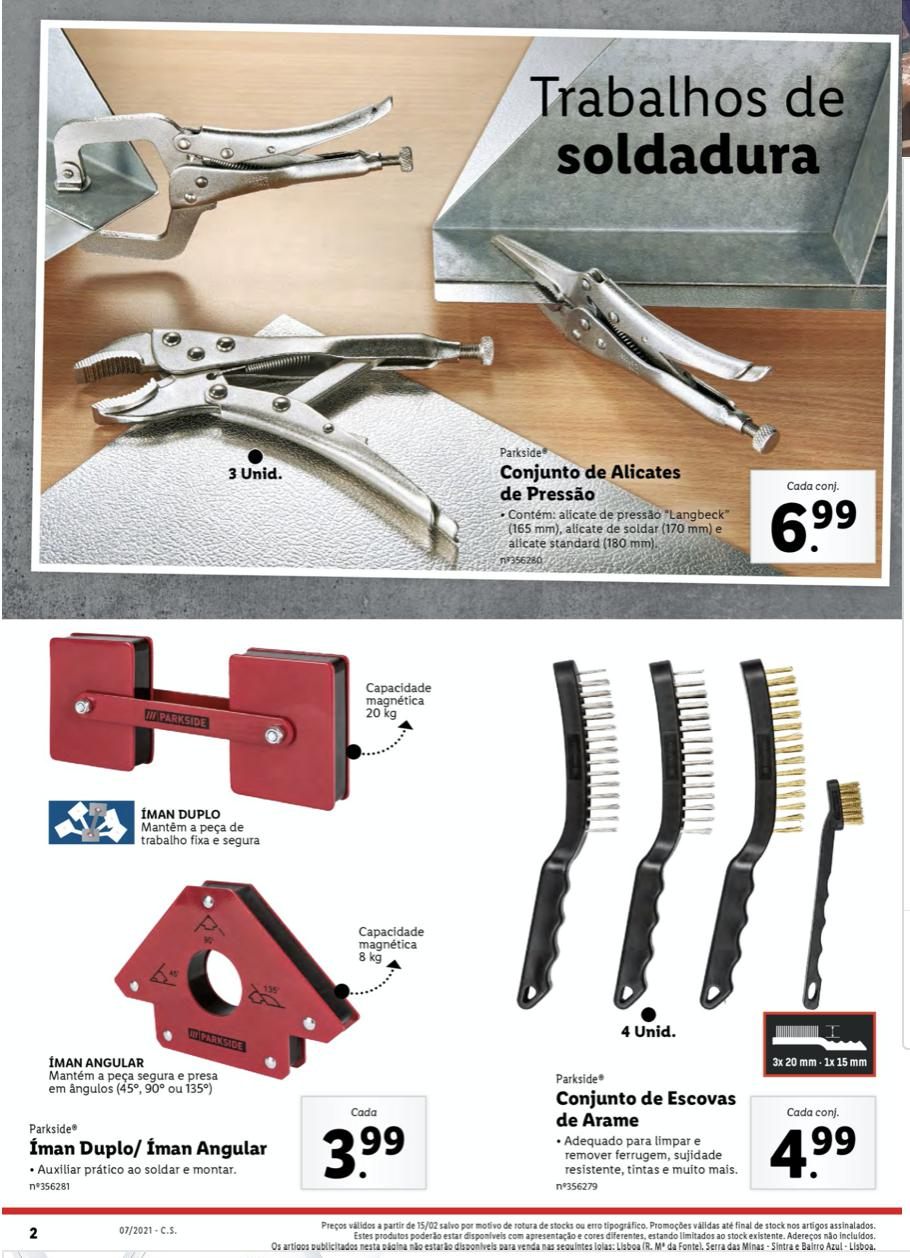name: (548, 1084, 744, 1133), (498, 461, 684, 503), (22, 1133, 275, 1161)
price: (770, 1119, 858, 1187), (319, 1125, 412, 1183), (767, 498, 861, 555)
product: (36, 36, 895, 592), (14, 620, 442, 1203), (503, 631, 887, 1197)
